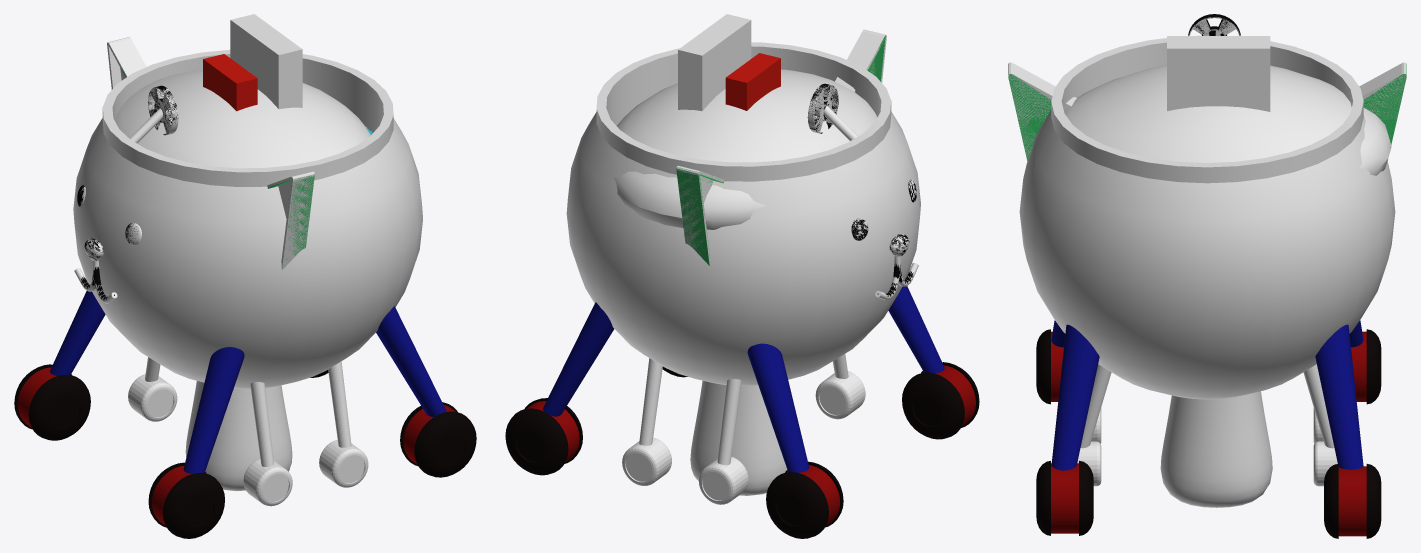
The model's file is Poessie cat car.glb.
3 renders of one model, left to right at view 1: azimuth 30°, elevation 25°; view 2: azimuth 150°, elevation 25°; view 3: azimuth 270°, elevation 25°, orthographic. The views are drawn at different scales.
Parts seen in each view (by area): view 1: Sphere, Sphere.003, Bottom poeesie cat car, Cube.003, Cylinder.001, Cube.002, Right front wheel, Left front wheel, Left back wheel, Cube, Cylinder, Chair (+3 smaller); view 2: Sphere, Sphere.003, Bottom poeesie cat car, Cube.003, Cylinder.001, Cube.002, Left front wheel, Right front wheel, Right Back wheel, Cylinder, Cube, Pointy ear (+3 smaller); view 3: Sphere, Sphere.003, Cube.003, Bottom poeesie cat car, Cube.002, Right Back wheel, Left back wheel, Cube, Pointy ear, Cylinder, Cylinder.001, Right front wheel (+3 smaller).
Boxes of the visible parts, x1,y1,x2,y2 form: Sphere: (73, 49, 422, 388); Sphere.003: (115, 70, 370, 168); Bottom poeesie cat car: (50, 290, 446, 473); Cube.003: (185, 381, 292, 491); Cylinder.001: (128, 374, 368, 506); Cube.002: (230, 14, 302, 109); Right front wheel: (14, 364, 90, 440); Left front wheel: (148, 462, 224, 538); Left back wheel: (400, 402, 476, 477); Cube: (107, 37, 314, 269); Cylinder: (145, 357, 351, 466); Chair: (203, 54, 257, 111); Sphere: (566, 42, 920, 385); Sphere.003: (614, 69, 877, 229); Bottom poeesie cat car: (543, 286, 944, 472); Cube.003: (690, 381, 787, 495); Cylinder.001: (622, 371, 865, 504); Cube.002: (678, 14, 751, 110); Left front wheel: (902, 362, 979, 439); Right front wheel: (766, 461, 843, 538); Right Back wheel: (505, 398, 582, 475); Cylinder: (639, 354, 848, 465); Cube: (676, 29, 886, 264); Pointy ear: (676, 35, 886, 265); Sphere: (1019, 35, 1395, 399); Sphere.003: (1064, 64, 1391, 175); Cube.003: (1160, 391, 1272, 507); Bottom poeesie cat car: (1051, 320, 1363, 470); Cube.002: (1167, 36, 1270, 111); Right Back wheel: (1324, 464, 1381, 538); Left back wheel: (1036, 461, 1093, 535); Cube: (1008, 62, 1406, 159); Pointy ear: (1008, 63, 1406, 161); Cylinder: (1080, 364, 1334, 448); Cylinder.001: (1077, 408, 1337, 486); Right front wheel: (1351, 329, 1381, 404).
Size of the model in its own units: 2.11 by 2.75 by 2.12.
1 material, 1 textured.
